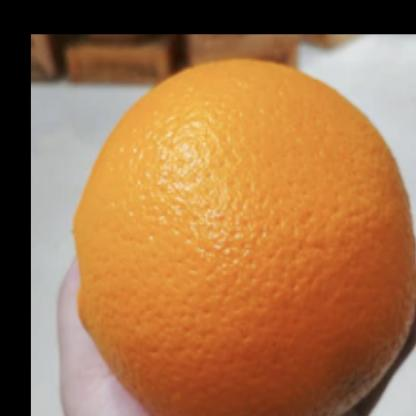fresh: (72, 57, 416, 416)
